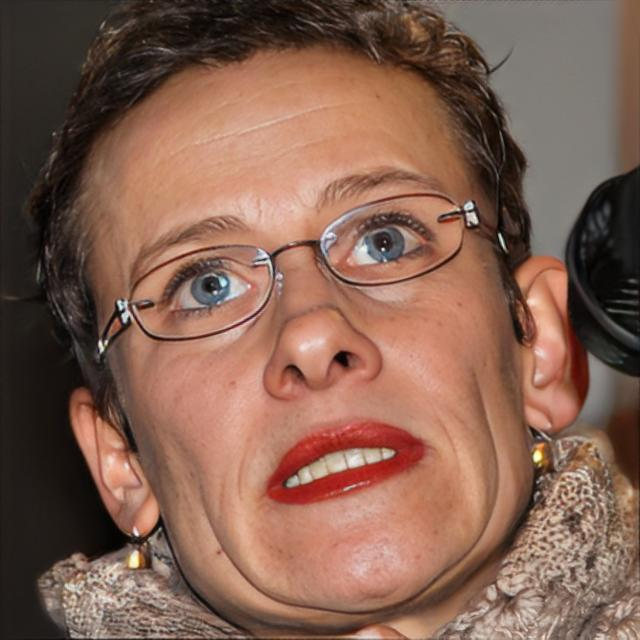fear: (75, 42, 530, 614)
